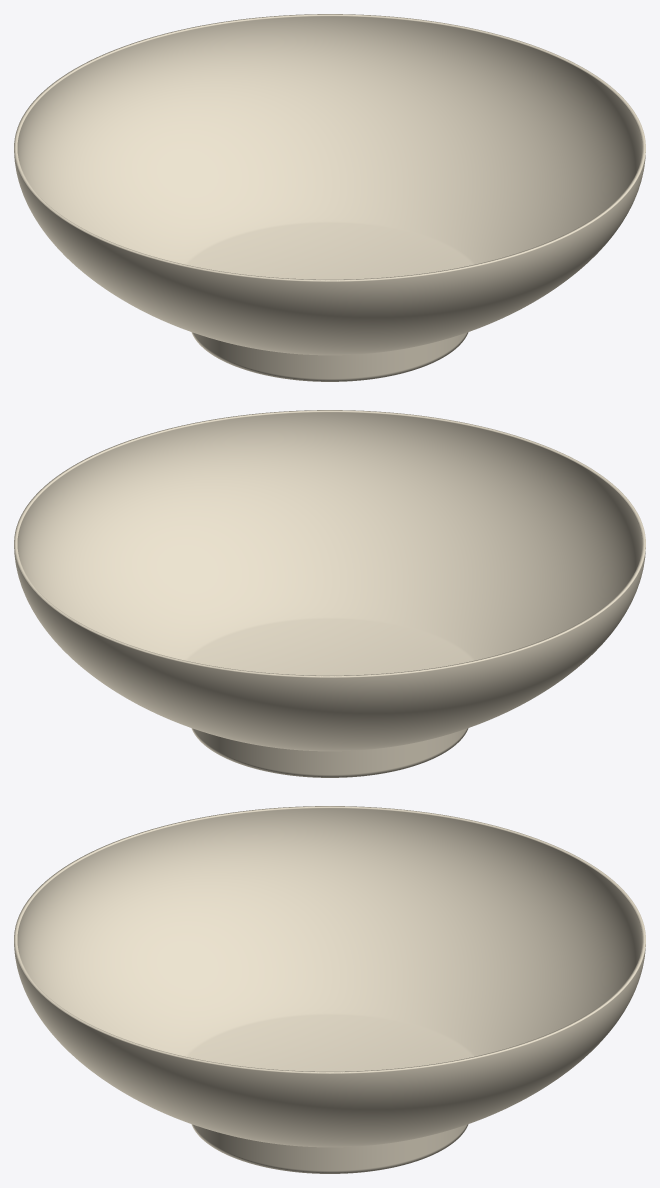
3 views of the same model, one above another, from view 1: azimuth 30°, elevation 25°; view 2: azimuth 150°, elevation 25°; view 3: azimuth 270°, elevation 25° (orthographic).
Visible parts, largest first — view 1: MoonJarConcept; view 2: MoonJarConcept; view 3: MoonJarConcept.
Boxes of the visible parts, <box> form: MoonJarConcept: <box>14,14,645,381</box>; MoonJarConcept: <box>14,410,645,777</box>; MoonJarConcept: <box>14,806,645,1173</box>.
Bounding box in the file's own units: 0.18 × 0.055 × 0.18.
